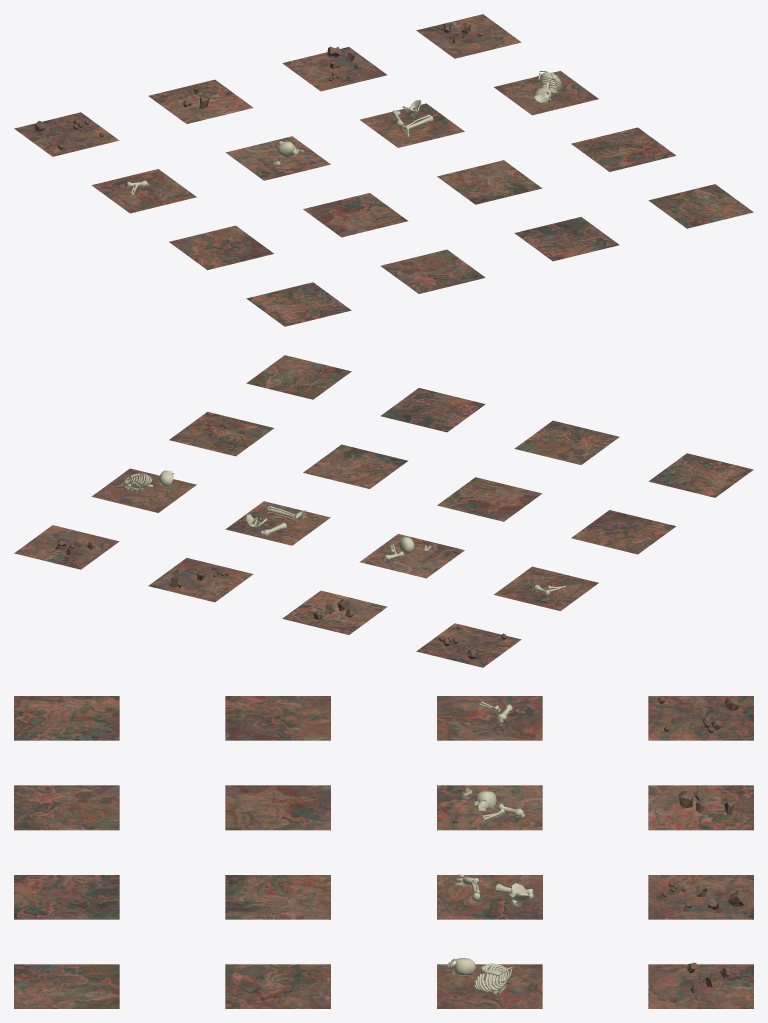
Rendered from cave_floor_decor.glb.
3 renders of one model, top to bottom at view 1: azimuth 30°, elevation 25°; view 2: azimuth 150°, elevation 25°; view 3: azimuth 270°, elevation 25°, orthographic. The views are drawn at different scales.
Visible parts, largest first — view 1: cave_floor.016, cave_floor.007, cave_floor.003, cave_floor.008, cave_floor.001, cave_floor.012, cave_floor.005, cave_floor.013, cave_floor.015, cave_floor.010, cave_floor.002, cave_floor.009 (+4 smaller); view 2: cave_floor.016, cave_floor.008, cave_floor.001, cave_floor.009, cave_floor.007, cave_floor.014, cave_floor.013, cave_floor.011, cave_floor.006, cave_floor.003, cave_floor.012, cave_floor.005 (+4 smaller); view 3: cave_floor.016, cave_floor.008, cave_floor.014, cave_floor.010, cave_floor.006, cave_floor.002, cave_floor.007, cave_floor.015, cave_floor.013, cave_floor.012, cave_floor.011, cave_floor.009 (+4 smaller).
Part boxes in pixels (x1,y1,x2,y2): cave_floor.016: (443, 23, 753, 228); cave_floor.007: (360, 100, 464, 147); cave_floor.003: (282, 46, 387, 91); cave_floor.008: (494, 71, 598, 115); cave_floor.001: (14, 112, 119, 156); cave_floor.012: (571, 127, 676, 171); cave_floor.005: (91, 169, 196, 213); cave_floor.013: (246, 282, 351, 326); cave_floor.015: (514, 217, 619, 261); cave_floor.010: (303, 193, 408, 237); cave_floor.002: (148, 79, 253, 123); cave_floor.009: (169, 225, 273, 269); cave_floor.016: (55, 355, 351, 556); cave_floor.008: (91, 468, 196, 512); cave_floor.001: (416, 623, 521, 667); cave_floor.009: (571, 510, 676, 554); cave_floor.007: (225, 501, 330, 545); cave_floor.014: (514, 420, 619, 464); cave_floor.013: (648, 453, 753, 497); cave_floor.011: (303, 444, 408, 488); cave_floor.006: (359, 534, 464, 578); cave_floor.003: (148, 558, 253, 602); cave_floor.012: (169, 412, 273, 456); cave_floor.005: (494, 566, 598, 610); cave_floor.016: (14, 962, 732, 1008); cave_floor.008: (437, 958, 542, 1008); cave_floor.014: (14, 785, 119, 830); cave_floor.010: (225, 785, 330, 830); cave_floor.006: (437, 785, 542, 830); cave_floor.002: (648, 785, 753, 830); cave_floor.007: (437, 874, 542, 919); cave_floor.015: (14, 875, 119, 919); cave_floor.013: (14, 696, 119, 740); cave_floor.012: (225, 964, 330, 1008); cave_floor.011: (225, 875, 330, 919); cave_floor.009: (225, 696, 330, 740).
Bounding box in the file's own units: 14 × 0.5358 × 14.
2 materials, 1 textured.
